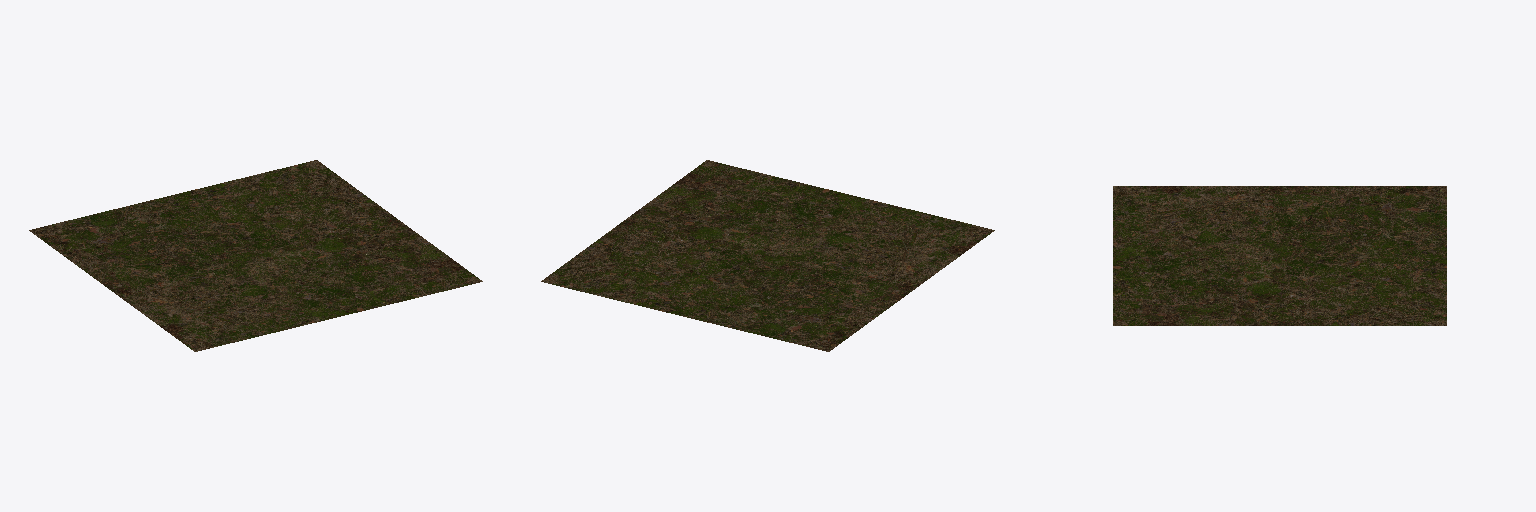
3 renders of one model, left to right at view 1: azimuth 30°, elevation 25°; view 2: azimuth 150°, elevation 25°; view 3: azimuth 270°, elevation 25°, orthographic.
Visible parts, largest first — view 1: Plane_Plane.001; view 2: Plane_Plane.001; view 3: Plane_Plane.001.
Boxes of the visible parts, <box> form: Plane_Plane.001: <box>29,160,482,351</box>; Plane_Plane.001: <box>541,160,994,351</box>; Plane_Plane.001: <box>1113,186,1446,325</box>.
Bounding box in the file's own units: 128 × 0 × 128.
Materials: 1 (1 with a texture image).